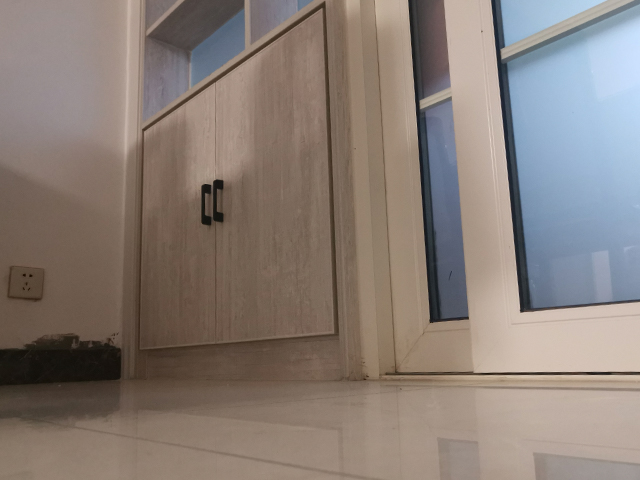cabinet: (115, 1, 380, 385)
